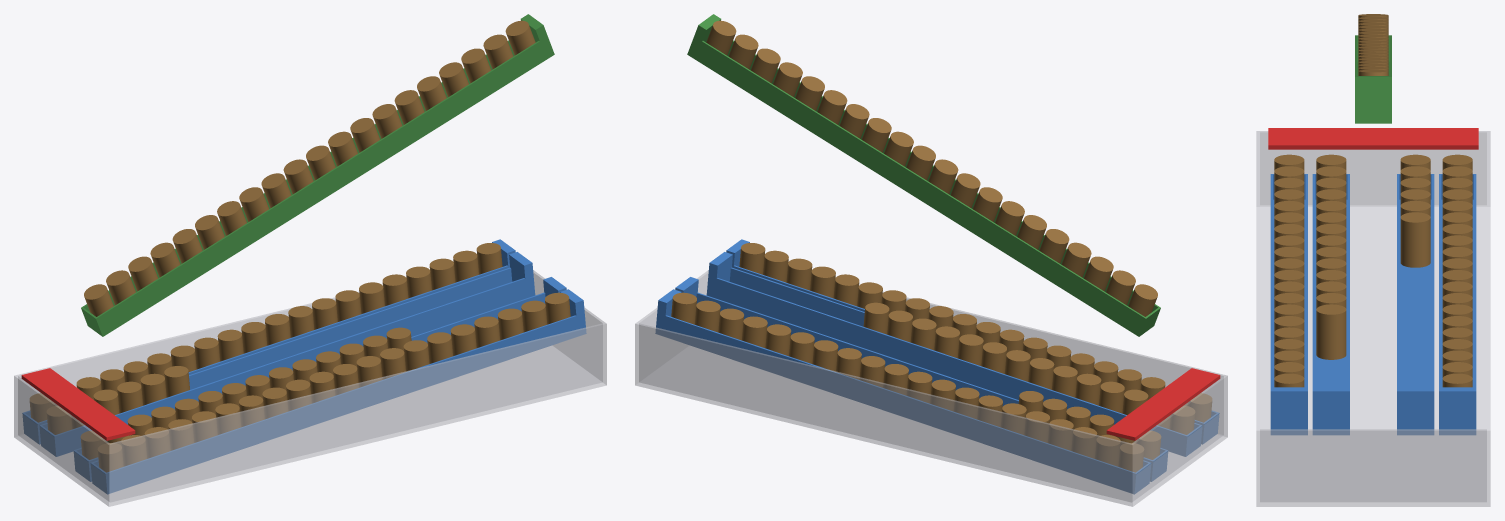
3 renders of one model, left to right at view 1: azimuth 30°, elevation 25°; view 2: azimuth 150°, elevation 25°; view 3: azimuth 270°, elevation 25°, orthographic. The views are drawn at different scales.
Visible parts, largest first — view 1: store_box, pods_2, pods_0, stick_2_lifted, stick_3, stick_0, pods_4, pods_1, pods_3, pick_door_open, stick_4, stick_1; view 2: store_box, pods_2, pods_4, stick_2_lifted, stick_4, stick_1, pods_0, pods_1, pick_door_open, stick_3, pods_3, stick_0; view 3: store_box, stick_3, pods_0, pods_4, pods_1, pick_door_open, stick_1, stick_0, stick_4, pods_3, stick_2_lifted, pods_2.
Boxes of the visible parts, bbox=[...] form: store_box: bbox=[14, 270, 606, 506]; pods_2: bbox=[84, 20, 535, 316]; pods_0: bbox=[98, 292, 570, 472]; stick_2_lifted: bbox=[81, 14, 554, 336]; stick_3: bbox=[39, 252, 535, 456]; stick_0: bbox=[90, 289, 586, 494]; pods_4: bbox=[30, 243, 502, 422]; pods_1: bbox=[81, 327, 411, 459]; pods_3: bbox=[47, 366, 189, 434]; pick_door_open: bbox=[21, 368, 135, 440]; stick_4: bbox=[22, 239, 515, 444]; stick_1: bbox=[73, 277, 566, 481]; store_box: bbox=[635, 270, 1227, 506]; pods_2: bbox=[706, 20, 1157, 316]; pods_4: bbox=[671, 292, 1143, 472]; stick_2_lifted: bbox=[687, 14, 1160, 336]; stick_4: bbox=[655, 289, 1151, 494]; stick_1: bbox=[706, 252, 1202, 456]; pods_0: bbox=[739, 243, 1211, 422]; pods_1: bbox=[863, 302, 1194, 434]; pick_door_open: bbox=[1106, 368, 1220, 440]; stick_3: bbox=[675, 277, 1168, 481]; pods_3: bbox=[1018, 391, 1160, 459]; stick_0: bbox=[726, 239, 1219, 444]; store_box: bbox=[1256, 131, 1490, 506]; stick_3: bbox=[1397, 174, 1434, 434]; pods_0: bbox=[1274, 154, 1304, 387]; pods_4: bbox=[1442, 154, 1472, 387]; pods_1: bbox=[1316, 154, 1346, 359]; pick_door_open: bbox=[1268, 128, 1478, 149]; stick_1: bbox=[1312, 174, 1349, 434]; stick_0: bbox=[1270, 174, 1307, 434]; stick_4: bbox=[1439, 174, 1476, 434]; pods_3: bbox=[1400, 154, 1430, 267]; stick_2_lifted: bbox=[1355, 35, 1391, 123]; pods_2: bbox=[1358, 14, 1388, 75].
Bounding box in the file's own units: 590 × 382 × 195.
